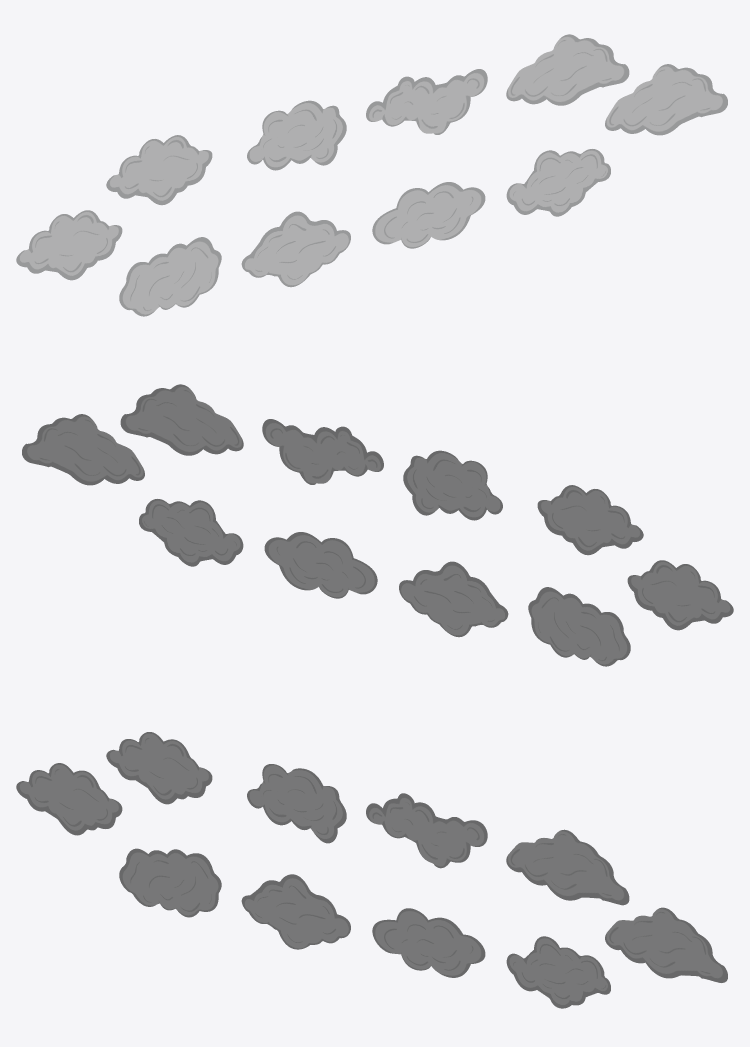
File: Nubess.FBX
3 views of the same model, one above another, from view 1: azimuth 30°, elevation 25°; view 2: azimuth 150°, elevation 25°; view 3: azimuth 330°, elevation 25° (orthographic).
Parts seen in each view (by area): view 1: Plane010, Plane004, Plane008, Plane007, Plane006, Plane002, Plane003, Plane009, Plane001, Plane005; view 2: Plane010, Plane004, Plane008, Plane007, Plane006, Plane002, Plane003, Plane009, Plane001, Plane005; view 3: Plane004, Plane010, Plane008, Plane007, Plane006, Plane002, Plane003, Plane001, Plane009, Plane005.
Part boxes in pixels (x1=…): Plane010: x1=605, y1=64, x2=727, y2=135; Plane004: x1=506, y1=34, x2=629, y2=105; Plane008: x1=119, y1=237, x2=221, y2=316; Plane007: x1=241, y1=211, x2=350, y2=287; Plane006: x1=372, y1=182, x2=485, y2=248; Plane002: x1=247, y1=100, x2=346, y2=170; Plane003: x1=366, y1=69, x2=487, y2=134; Plane009: x1=16, y1=210, x2=122, y2=280; Plane001: x1=106, y1=135, x2=212, y2=205; Plane005: x1=506, y1=149, x2=610, y2=216; Plane010: x1=22, y1=414, x2=144, y2=485; Plane004: x1=120, y1=384, x2=243, y2=455; Plane008: x1=528, y1=587, x2=630, y2=666; Plane007: x1=399, y1=561, x2=508, y2=637; Plane006: x1=264, y1=532, x2=377, y2=598; Plane002: x1=403, y1=450, x2=502, y2=520; Plane003: x1=262, y1=419, x2=383, y2=484; Plane009: x1=627, y1=560, x2=733, y2=630; Plane001: x1=537, y1=485, x2=643, y2=555; Plane005: x1=139, y1=499, x2=243, y2=566; Plane004: x1=506, y1=829, x2=629, y2=905; Plane010: x1=605, y1=907, x2=727, y2=982; Plane008: x1=119, y1=848, x2=221, y2=917; Plane007: x1=241, y1=874, x2=350, y2=949; Plane006: x1=372, y1=908, x2=485, y2=977; Plane002: x1=247, y1=764, x2=346, y2=843; Plane003: x1=366, y1=793, x2=487, y2=868; Plane001: x1=106, y1=732, x2=212, y2=804; Plane009: x1=16, y1=763, x2=122, y2=835; Plane005: x1=506, y1=936, x2=610, y2=1008.
Size of the model in its own units: 289 by 74.05 by 7.05e-06.
8 materials, 8 textured.
